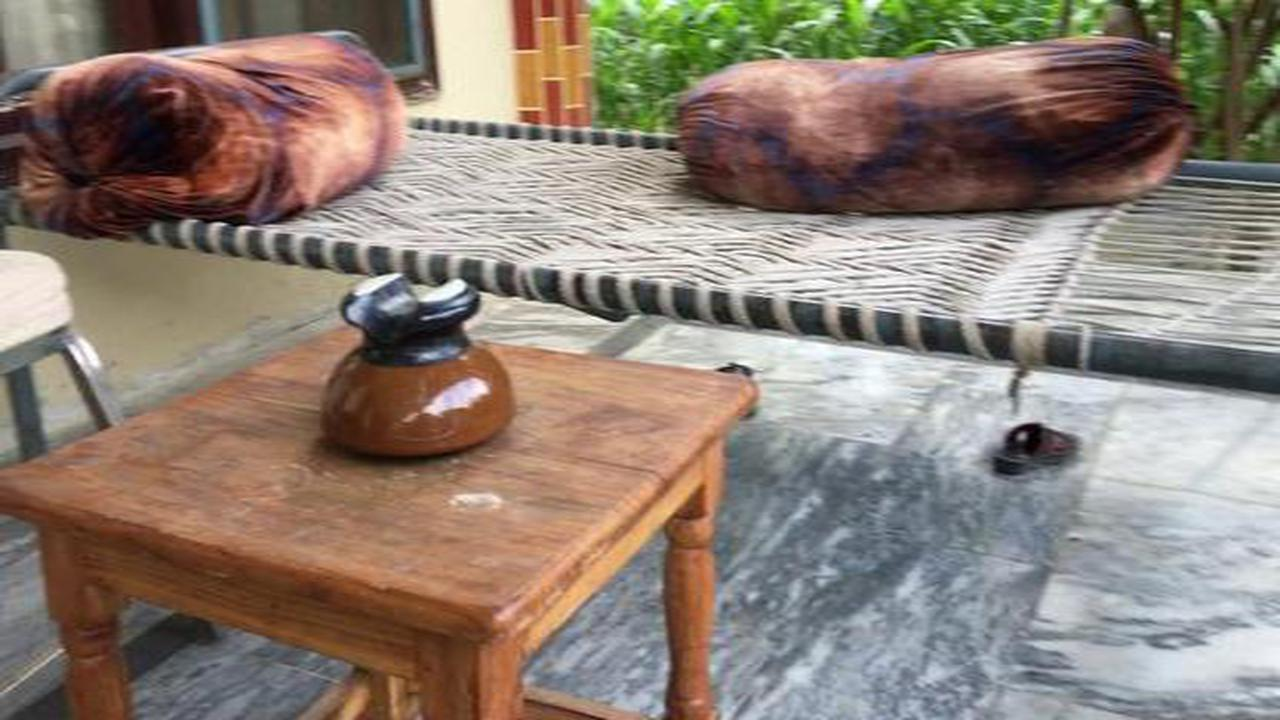insulator_pin: (296, 250, 530, 475)
